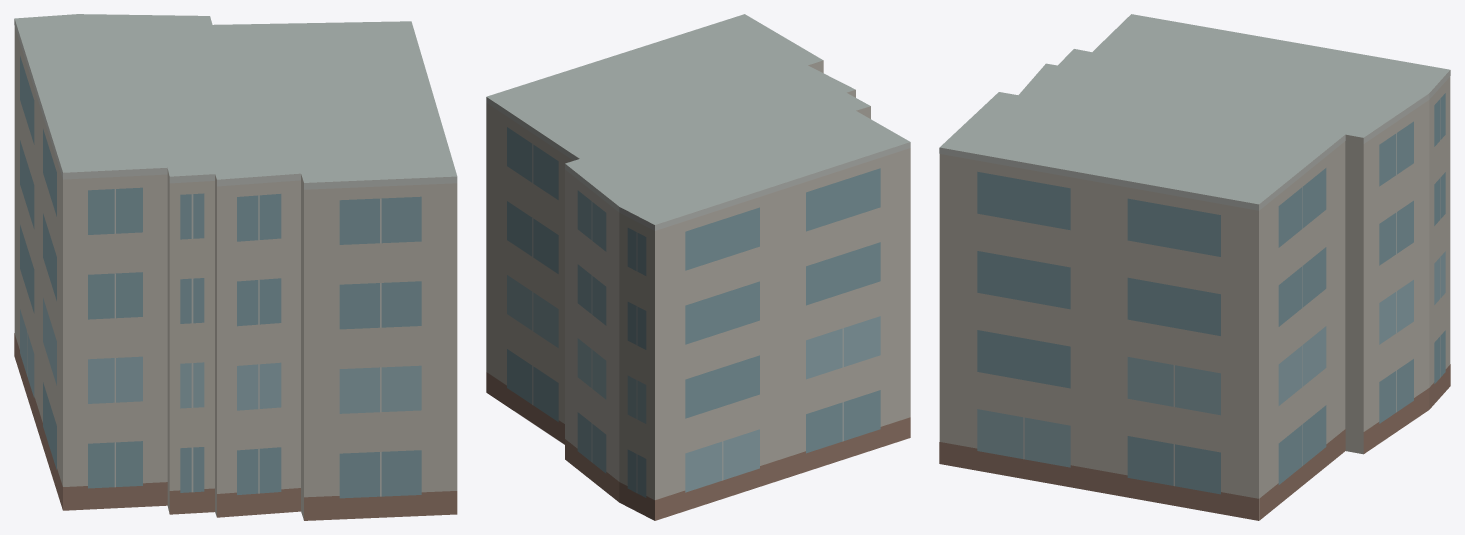
The model's file is survey-upis-32572621.glb.
The picture shows the model from 3 angles, left to right: view 1: azimuth 30°, elevation 25°; view 2: azimuth 150°, elevation 25°; view 3: azimuth 270°, elevation 25°; orthographic projection. The views are drawn at different scales.
Parts seen in each view (by area): view 1: survey-upis-32572621.tmp; view 2: survey-upis-32572621.tmp; view 3: survey-upis-32572621.tmp.
Part boxes in pixels (x1,y1,x2,y2): survey-upis-32572621.tmp: (14, 14, 457, 520); survey-upis-32572621.tmp: (486, 14, 910, 520); survey-upis-32572621.tmp: (939, 14, 1450, 520).
Size of the model in its own units: 15.75 by 12.2 by 17.86.
